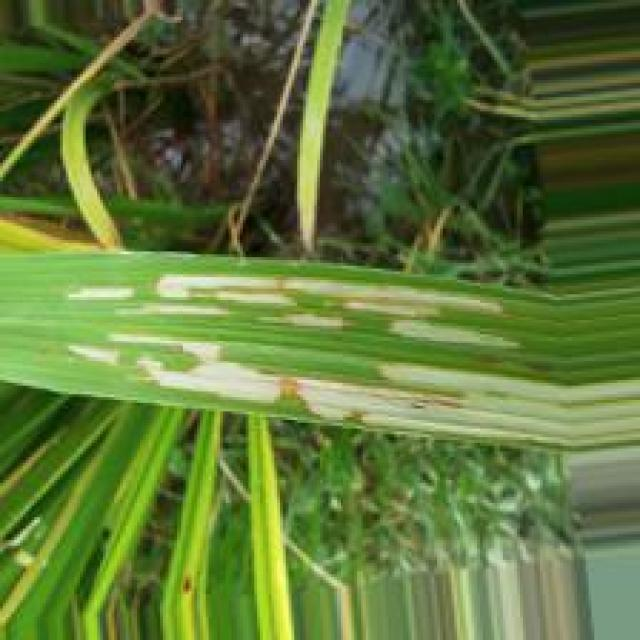Rice_Hispa: (107, 331, 640, 442), (157, 267, 512, 318), (378, 318, 526, 351), (395, 323, 525, 342), (248, 313, 358, 329), (53, 282, 136, 299), (64, 348, 121, 365)
